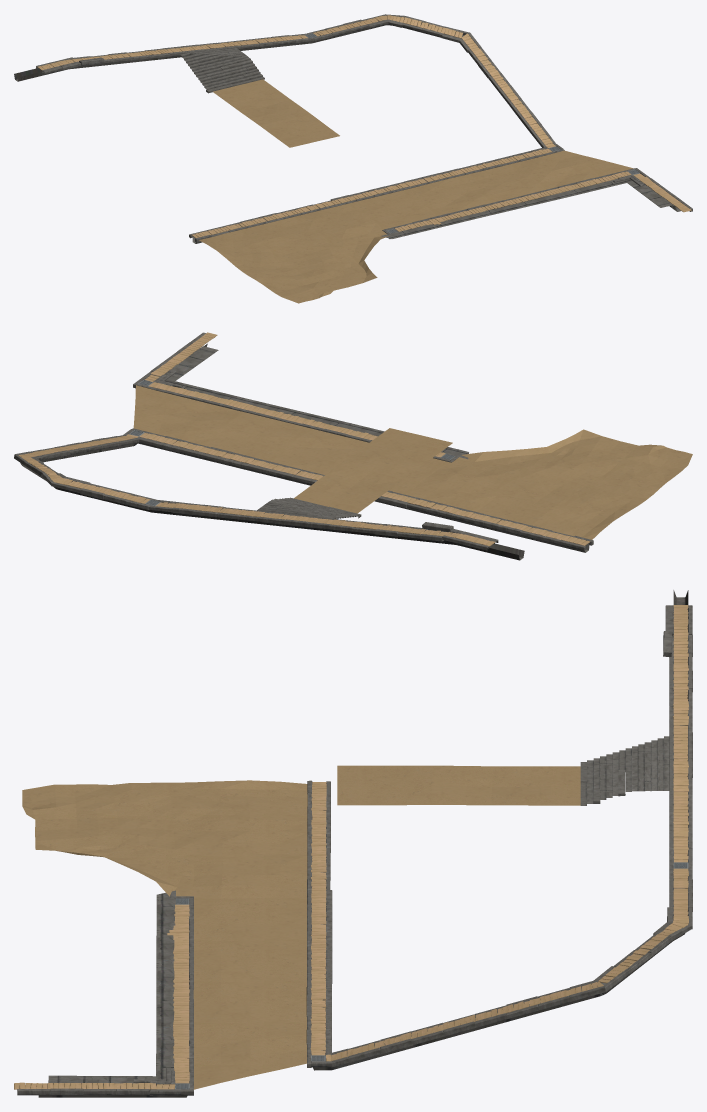
The model's file is SM_ENV_KNVLLG_ground_04.fbx.
3 views of the same model, one above another, from view 1: azimuth 30°, elevation 25°; view 2: azimuth 150°, elevation 25°; view 3: azimuth 270°, elevation 25° (orthographic). The views are drawn at different scales.
Visible parts, largest first — view 1: SM_ENV_KNVLLG_ground_04.mo; view 2: SM_ENV_KNVLLG_ground_04.mo; view 3: SM_ENV_KNVLLG_ground_04.mo.
Part boxes in pixels (x1,y1,x2,y2): SM_ENV_KNVLLG_ground_04.mo: (14, 14, 692, 303); SM_ENV_KNVLLG_ground_04.mo: (14, 332, 692, 560); SM_ENV_KNVLLG_ground_04.mo: (14, 590, 692, 1097).
Size of the model in its own units: 11714 by 2442 by 9413.
